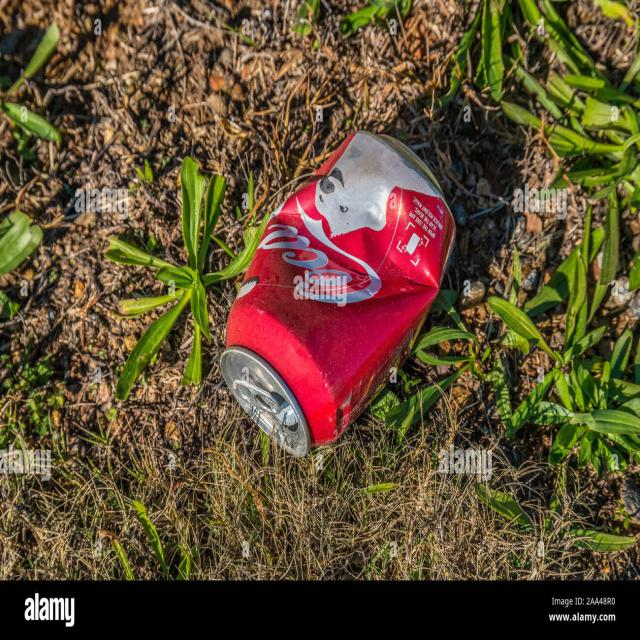aluminum_can: (179, 109, 471, 469)
